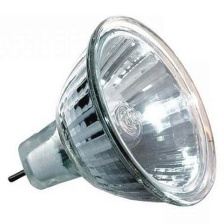light_bulb: (4, 8, 219, 218)
